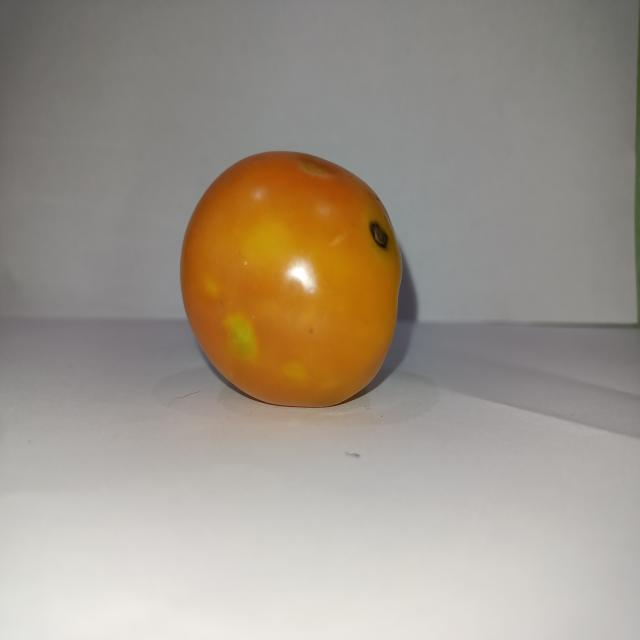Red: (178, 149, 403, 408)
